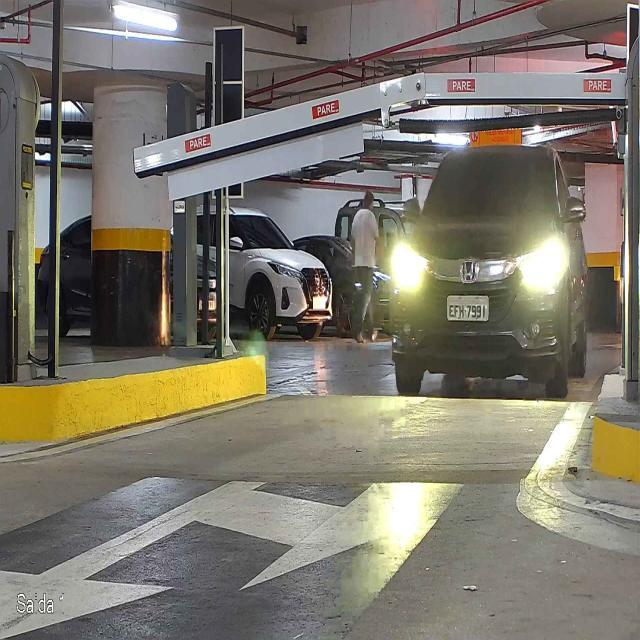old_plate: (444, 294, 491, 323)
